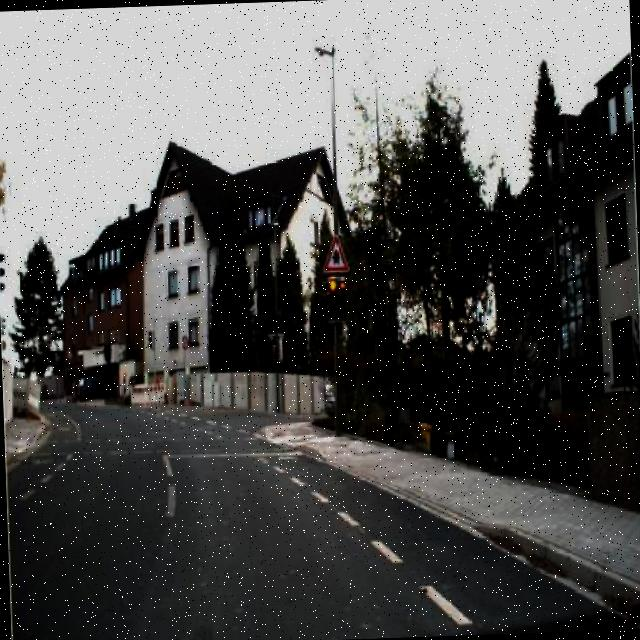Ograniczenie predkosci do 30: (180, 334, 190, 352)
